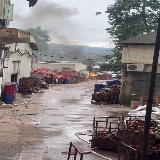fire: (90, 72, 98, 76)
